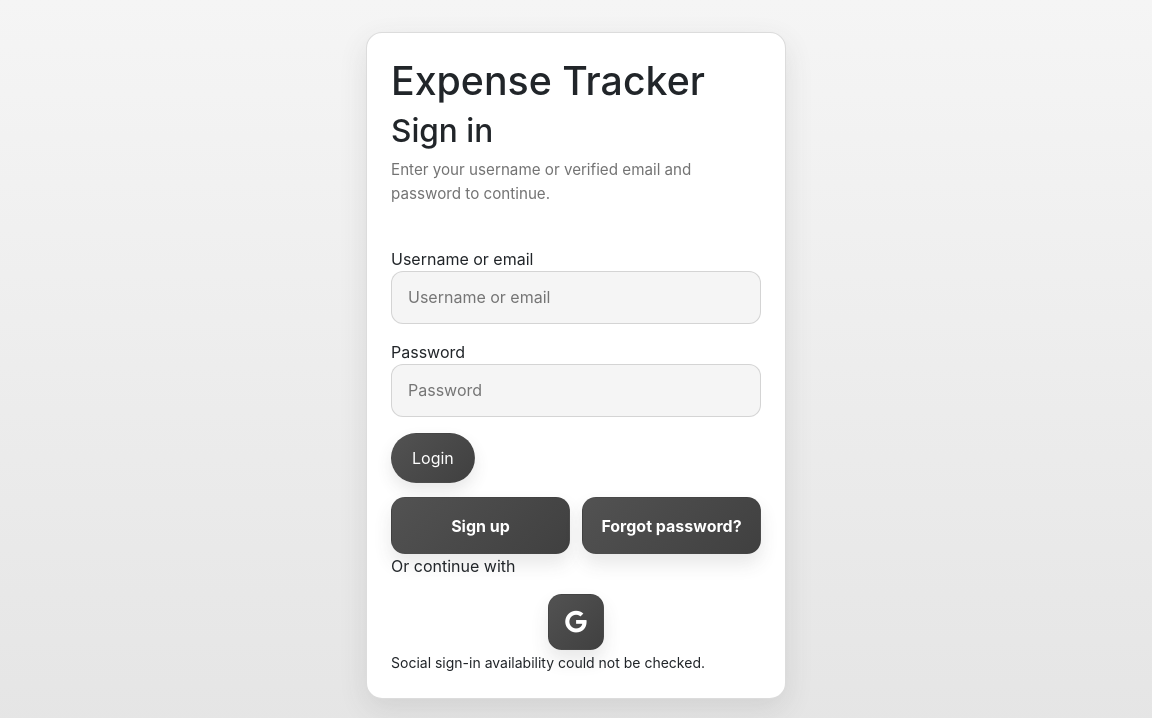
Test: Login unit tests › shows required validation when the user submits empty login details
Click the button "Login" at [433, 458], box [391, 433, 475, 483]
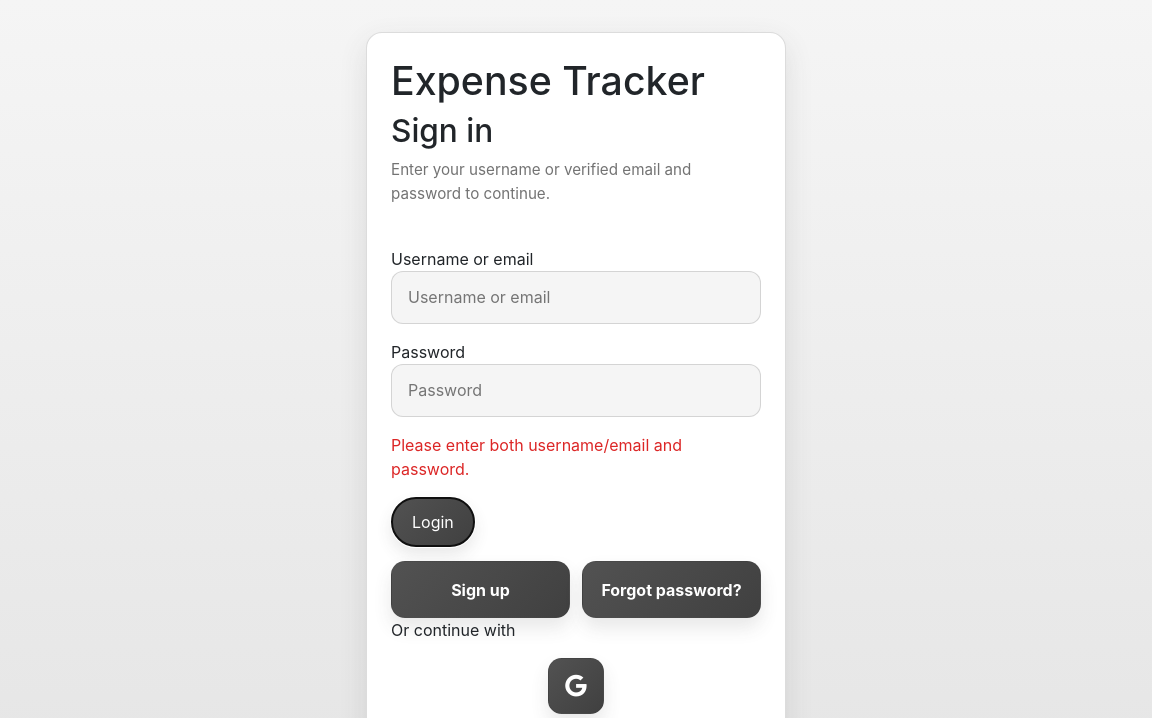
Now the text "Please enter both username/email and password." is shown, box [391, 435, 682, 479]
